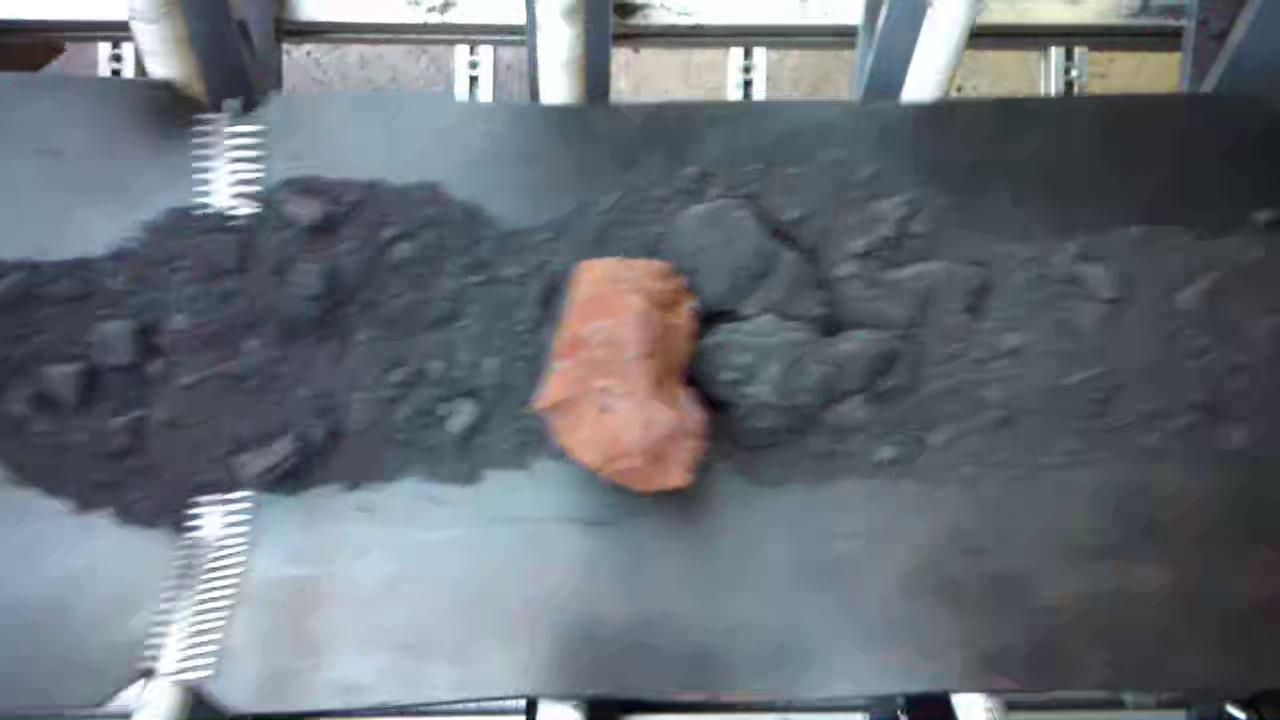conveyor: (8, 109, 1275, 677)
